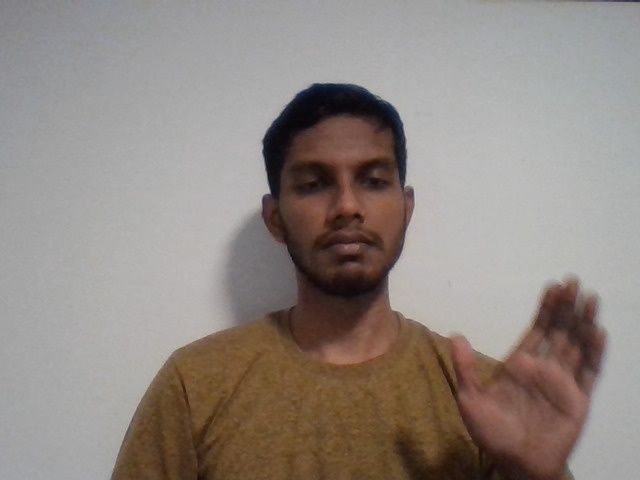hello: (416, 263, 624, 470)
